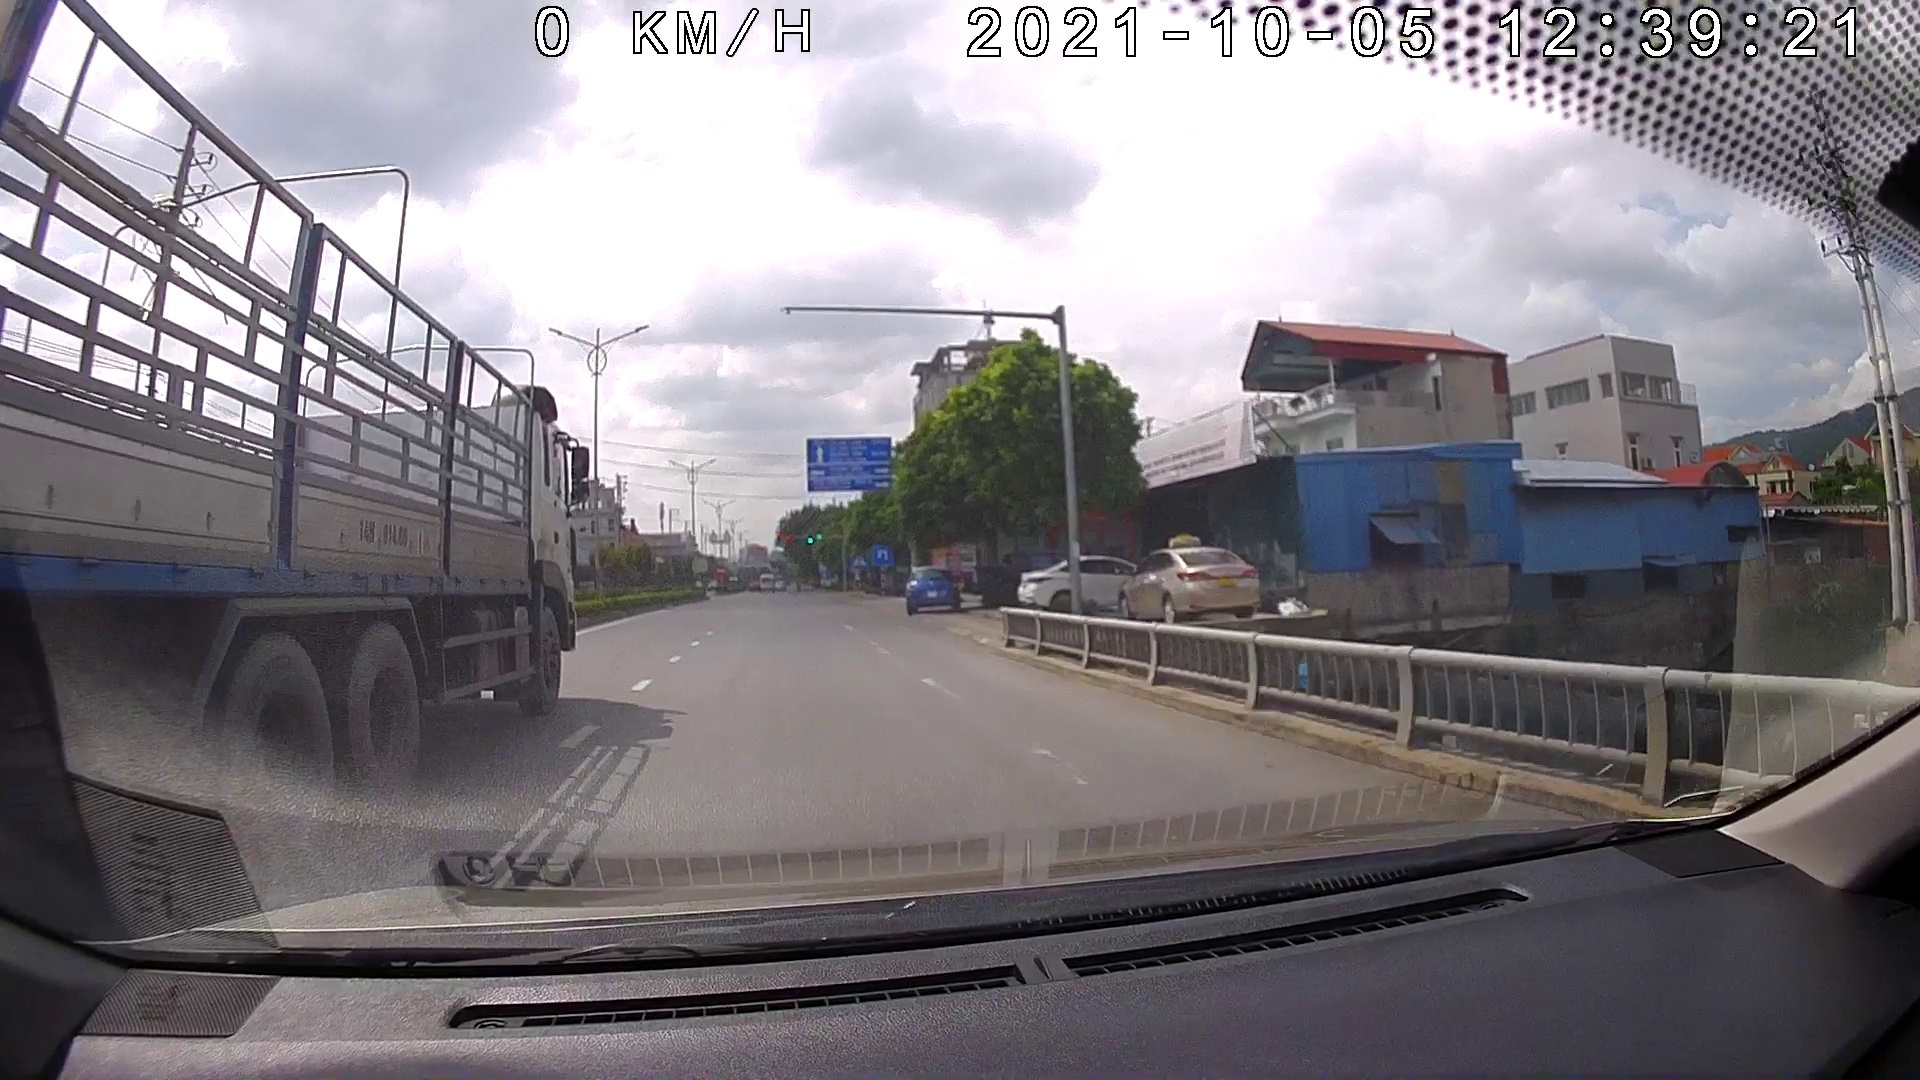Bien khac: (866, 537, 895, 567)
Nguoi di bo: (849, 554, 862, 568)
